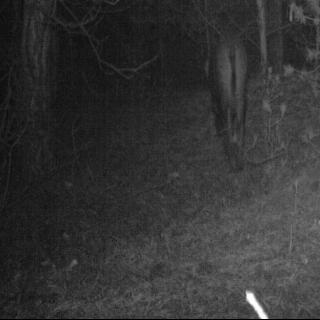Pig: (189, 21, 252, 176)
